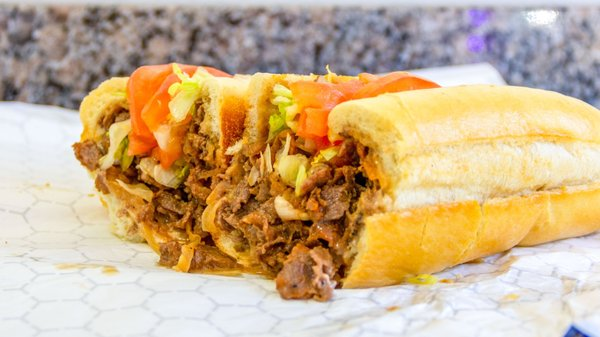soup: (73, 63, 597, 301)
